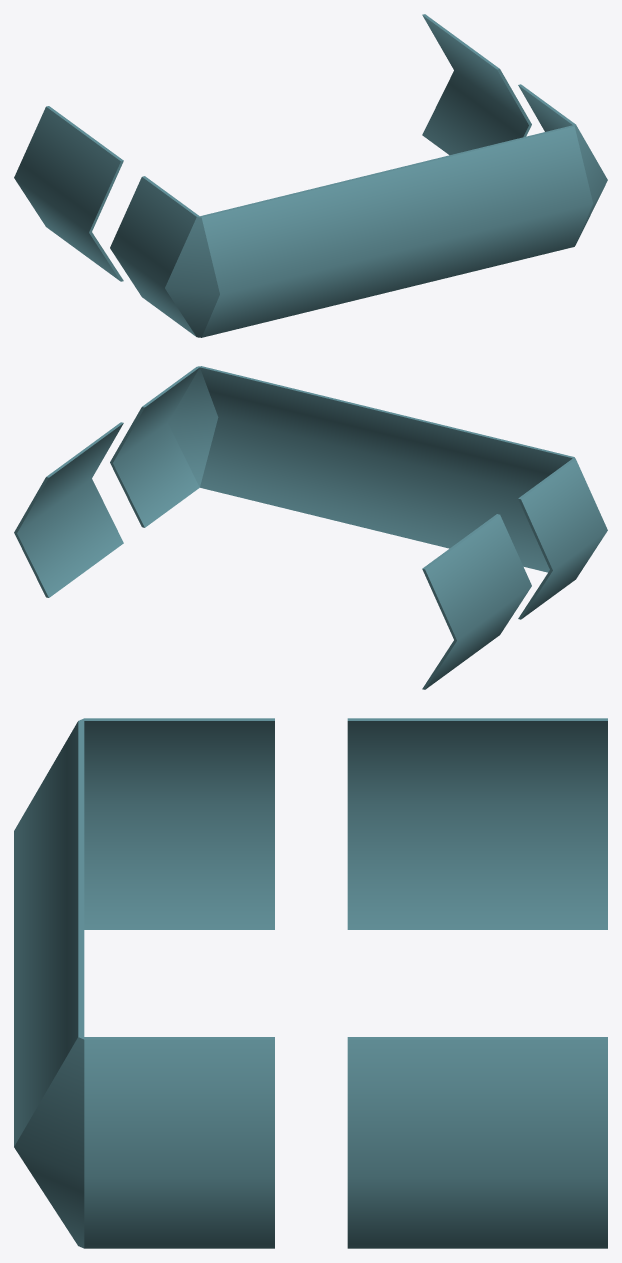
The model's file is vaderCastle_Glass_Top.fbx.
The picture shows the model from 3 angles, top to bottom: view 1: azimuth 30°, elevation 25°; view 2: azimuth 150°, elevation 25°; view 3: azimuth 270°, elevation 25°; orthographic projection. The views are drawn at different scales.
Parts seen in each view (by area): view 1: VaderCastleGlassTop; view 2: VaderCastleGlassTop; view 3: VaderCastleGlassTop.
Boxes of the visible parts, x1=… form: VaderCastleGlassTop: x1=14, y1=14, x2=607, y2=337; VaderCastleGlassTop: x1=14, y1=366, x2=607, y2=689; VaderCastleGlassTop: x1=14, y1=718, x2=607, y2=1248.
Bounding box in the file's own units: 15.51 × 4.02 × 10.37.
